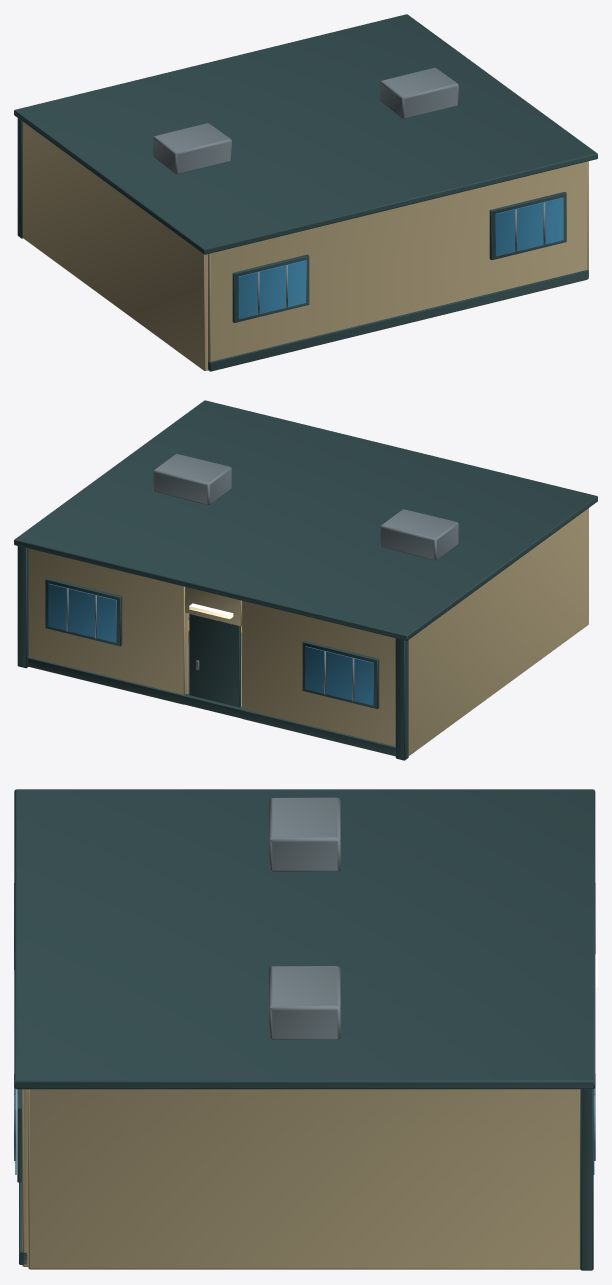
File: north-security.glb
3 renders of one model, top to bottom at view 1: azimuth 30°, elevation 25°; view 2: azimuth 150°, elevation 25°; view 3: azimuth 270°, elevation 25°, orthographic. The views are drawn at different scales.
Visible parts, largest first — view 1: roof_0_trim, shell_0_wall, shell_0_trim, roof_0_metal, shell_0_blue; view 2: roof_0_trim, shell_0_wall, shell_0_trim, roof_0_metal, shell_0_blue, door_0_trim; view 3: roof_0_trim, shell_0_wall, roof_0_metal, shell_0_trim.
Part boxes in pixels (x1,y1,x2,y2): roof_0_trim: (14, 14, 597, 254); shell_0_wall: (23, 122, 588, 371); shell_0_trim: (17, 118, 588, 371); roof_0_metal: (153, 67, 458, 174); shell_0_blue: (238, 197, 563, 319); roof_0_trim: (14, 400, 597, 640); shell_0_wall: (28, 508, 588, 756); shell_0_trim: (17, 546, 408, 760); roof_0_metal: (153, 454, 458, 560); shell_0_blue: (48, 583, 373, 705); door_0_trim: (189, 614, 240, 706); roof_0_trim: (14, 789, 595, 1089); shell_0_wall: (22, 1089, 580, 1269); roof_0_metal: (269, 797, 340, 1039); shell_0_trim: (17, 1089, 593, 1270).
Size of the model in its own units: 12.5 by 4.5 by 10.56.
